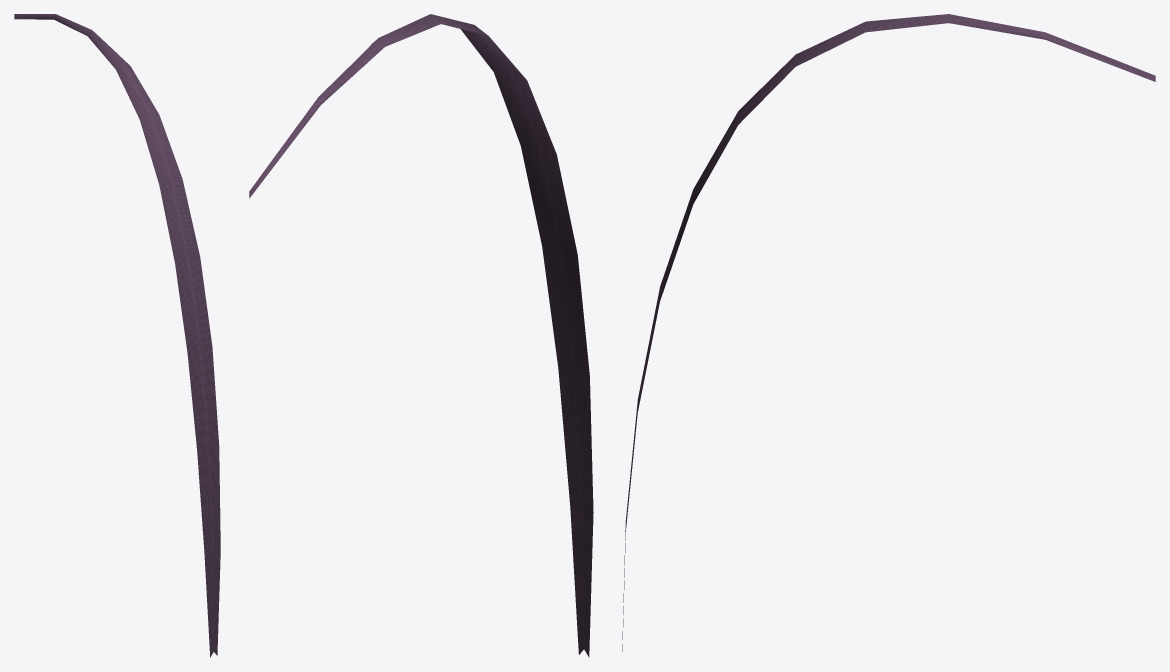
File: single_blade_05.glb
3 views of the same model, side by side, from view 1: azimuth 30°, elevation 25°; view 2: azimuth 150°, elevation 25°; view 3: azimuth 270°, elevation 25° (orthographic). The views are drawn at different scales.
Visible parts, largest first — view 1: export; view 2: export; view 3: export.
Part boxes in pixels (x1,y1,x2,y2): export: (14,14,220,657); export: (249,14,593,657); export: (622,14,1155,651).
Bounding box in the file's own units: 0.0564 × 1.01 × 0.7525.
1 material, 1 textured.
